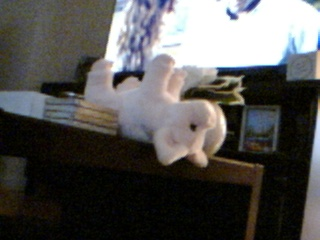piggy: (83, 53, 218, 170)
